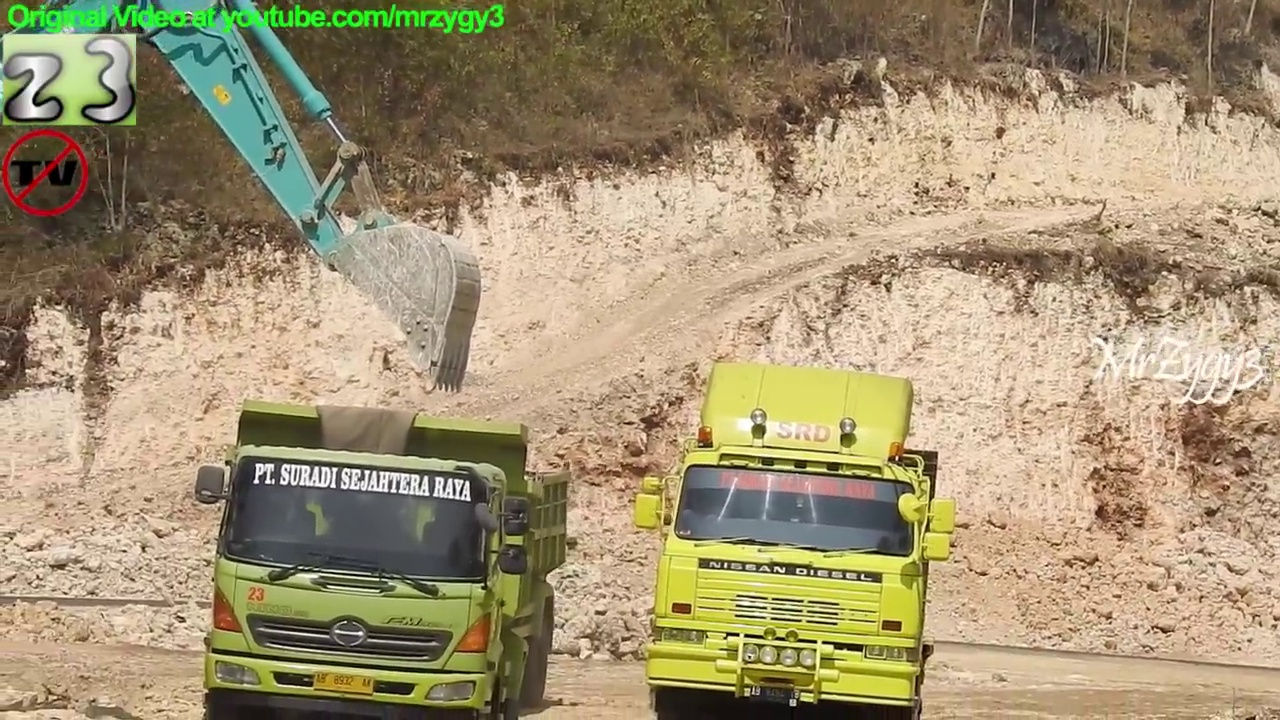excavator: (1, 1, 492, 400)
truck: (191, 393, 582, 720), (630, 355, 960, 720)
